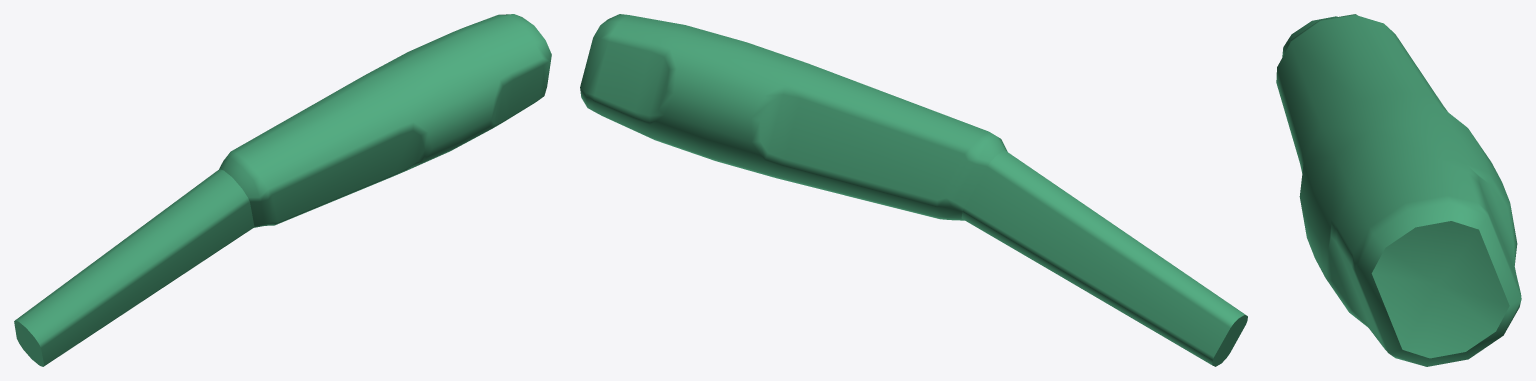
Rendered from signalstalk.fbx.
3 views of the same model, side by side, from view 1: azimuth 30°, elevation 25°; view 2: azimuth 150°, elevation 25°; view 3: azimuth 270°, elevation 25° (orthographic). The views are drawn at different scales.
Visible parts, largest first — view 1: vavace_signalstalk; view 2: vavace_signalstalk; view 3: vavace_signalstalk.
Part boxes in pixels (bbox=[...]): vavace_signalstalk: bbox=[14, 14, 551, 366]; vavace_signalstalk: bbox=[580, 14, 1247, 366]; vavace_signalstalk: bbox=[1276, 14, 1521, 366].
Bounding box in the file's own units: 15.35 × 5.47 × 3.18.
